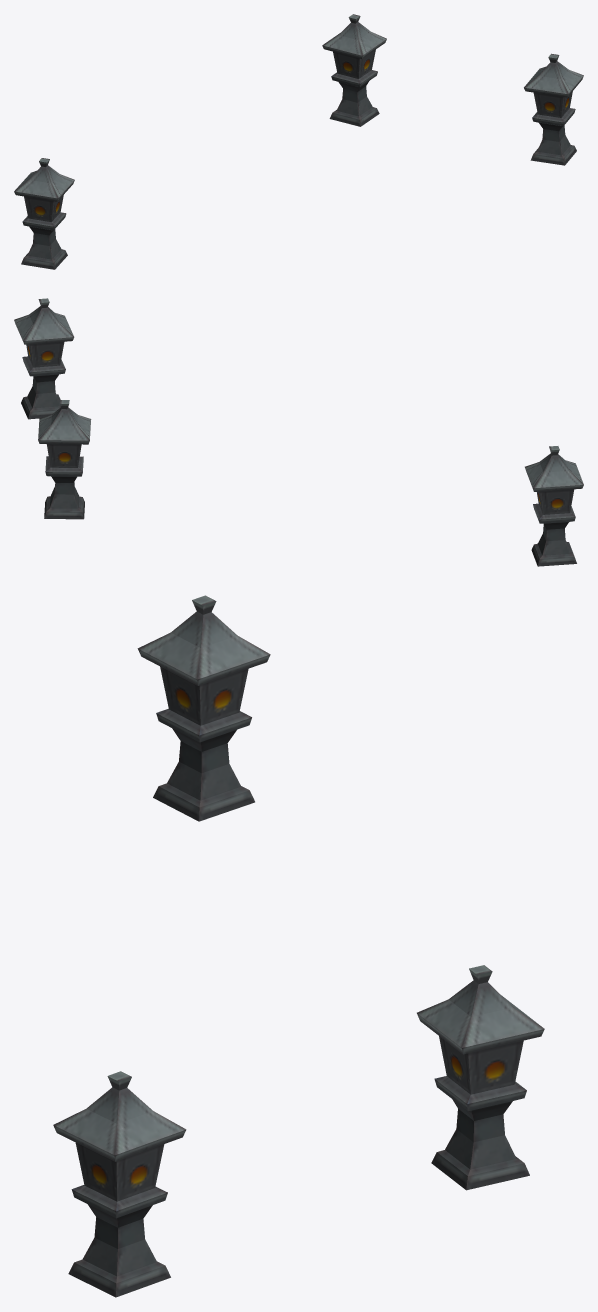
Rendered from Area_11_47.fbx.
3 renders of one model, top to bottom at view 1: azimuth 30°, elevation 25°; view 2: azimuth 150°, elevation 25°; view 3: azimuth 270°, elevation 25°, orthographic. The views are drawn at different scales.
Parts seen in each view (by area): view 1: Area_11_47; view 2: Area_11_47; view 3: Area_11_47.
Part boxes in pixels (left/top/right/bottom): Area_11_47: left=14, top=14, right=583, bottom=269; Area_11_47: left=14, top=298, right=583, bottom=566; Area_11_47: left=53, top=595, right=544, bottom=1297.
Bounding box in the file's own units: 1293 × 226 × 504.
